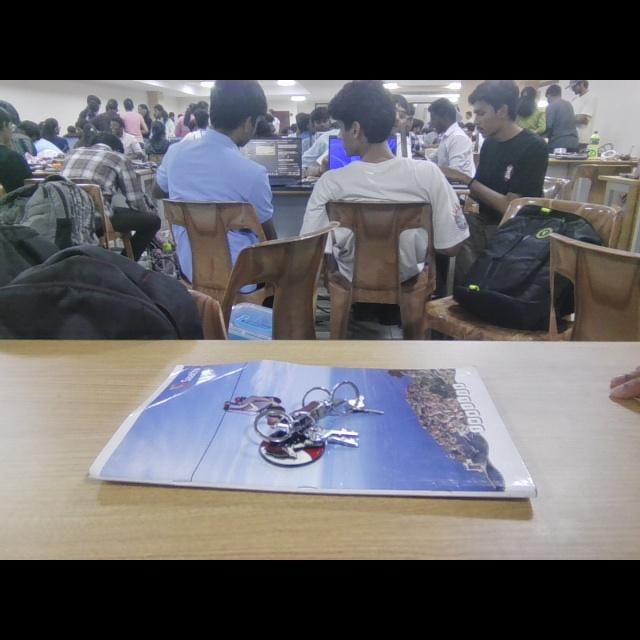keys: (240, 370, 388, 478)
